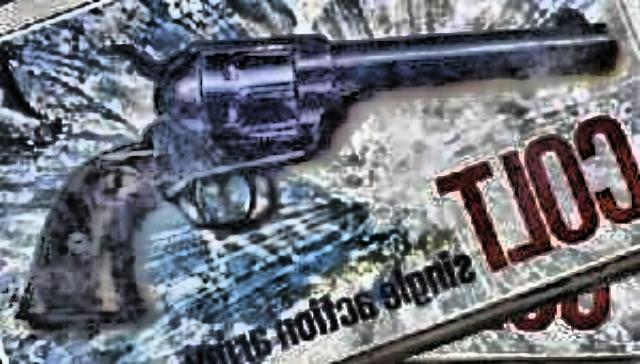pistol: (16, 4, 616, 330)
